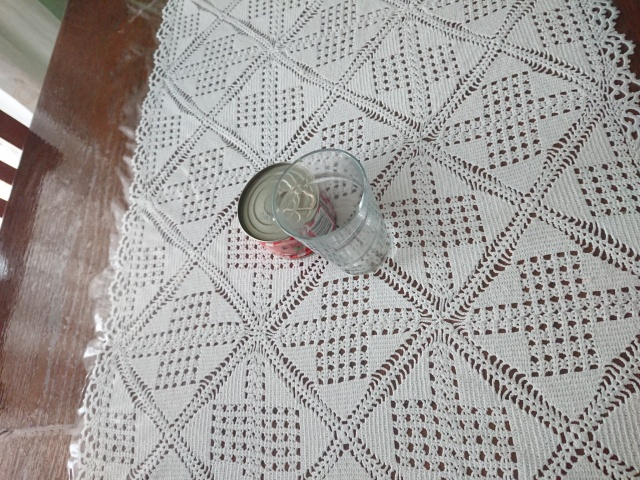Podravka Luncheon Meat 150g: (236, 160, 339, 262)
